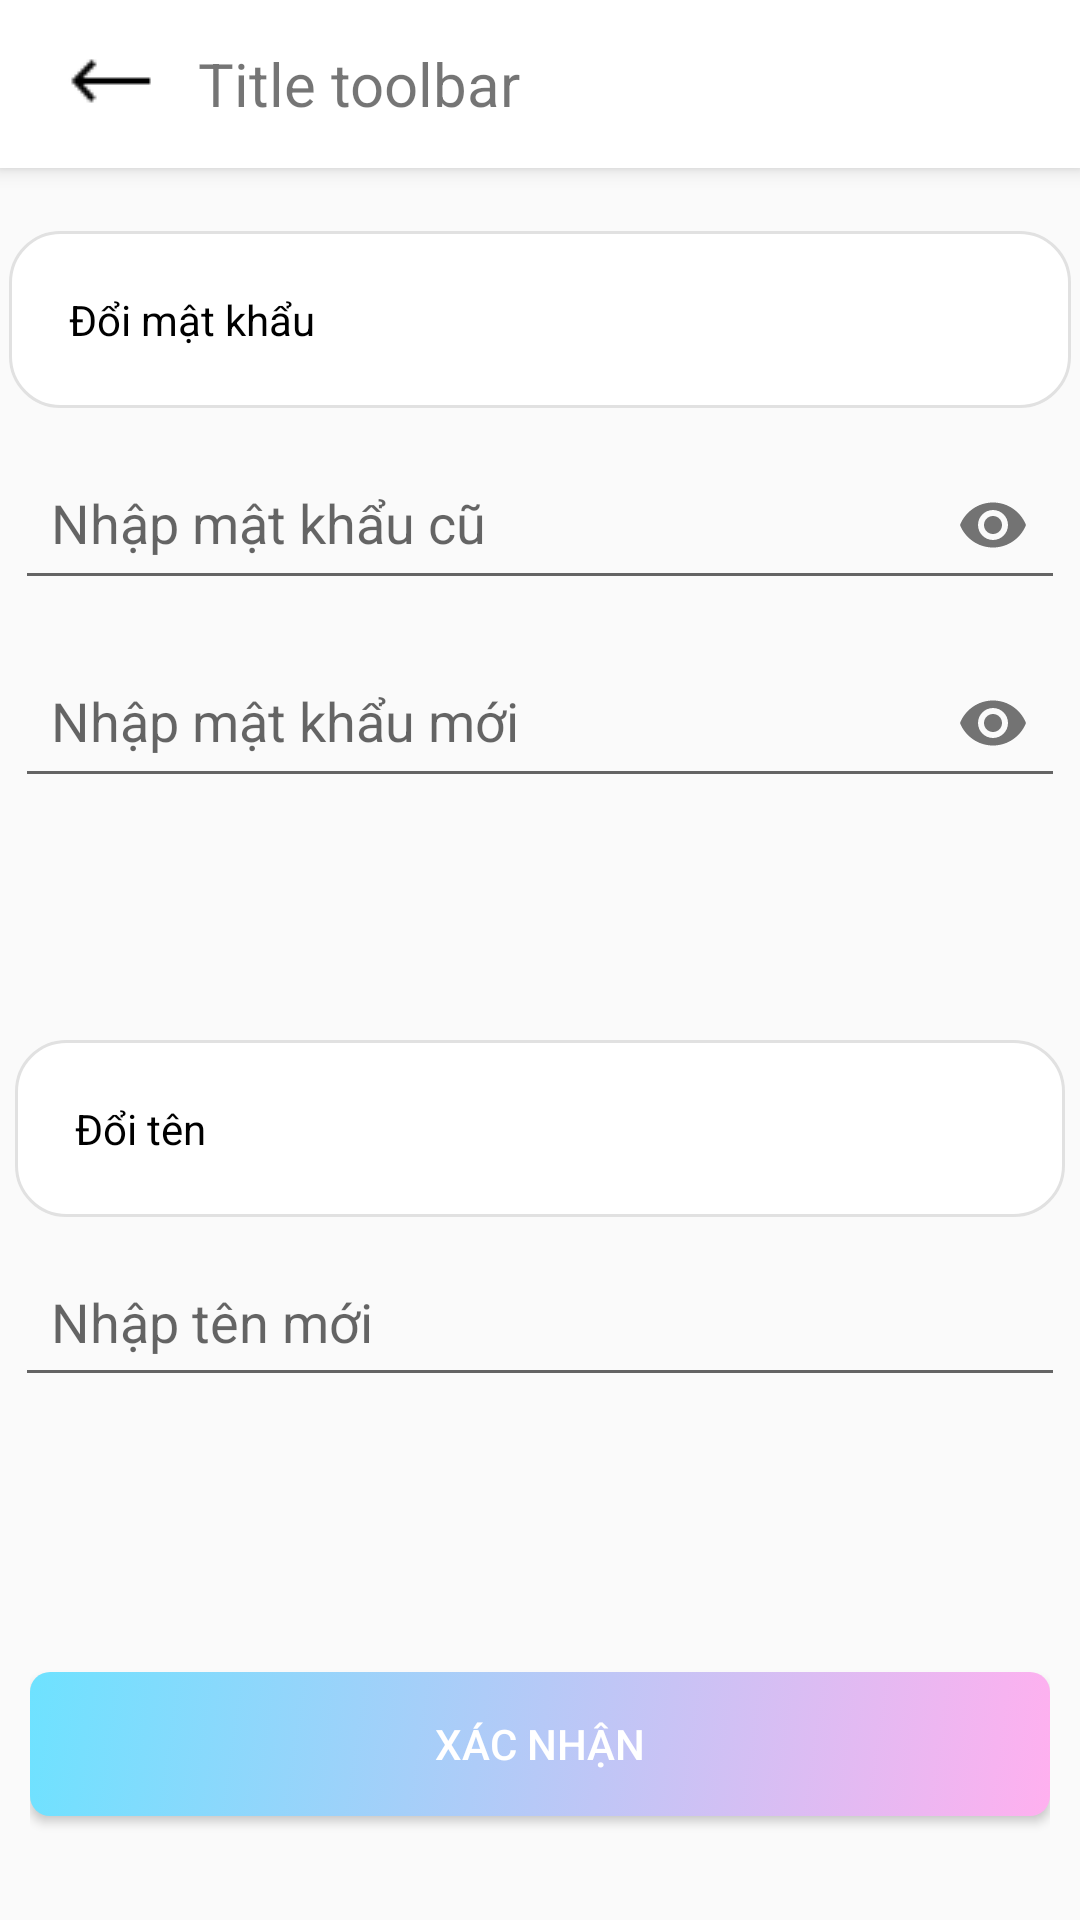

Where to tap for icons on this 1080x1920 app screen, as point (x, y):
back toolbar: point (111, 81)
